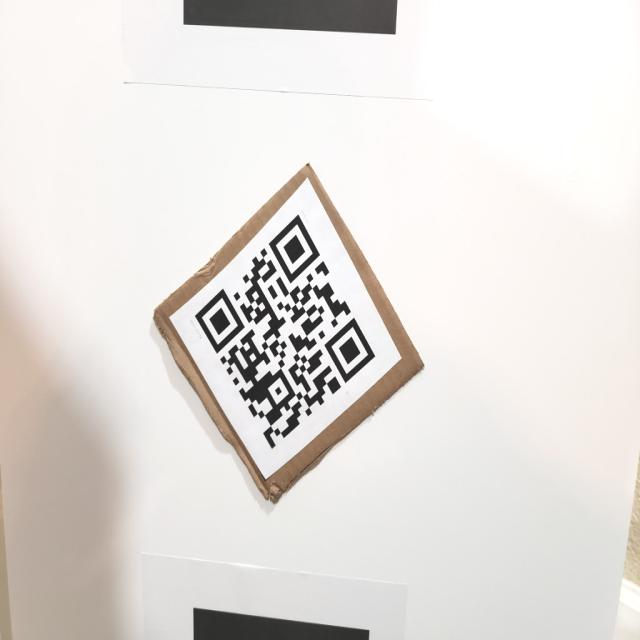QRCode: (189, 192, 389, 459)
